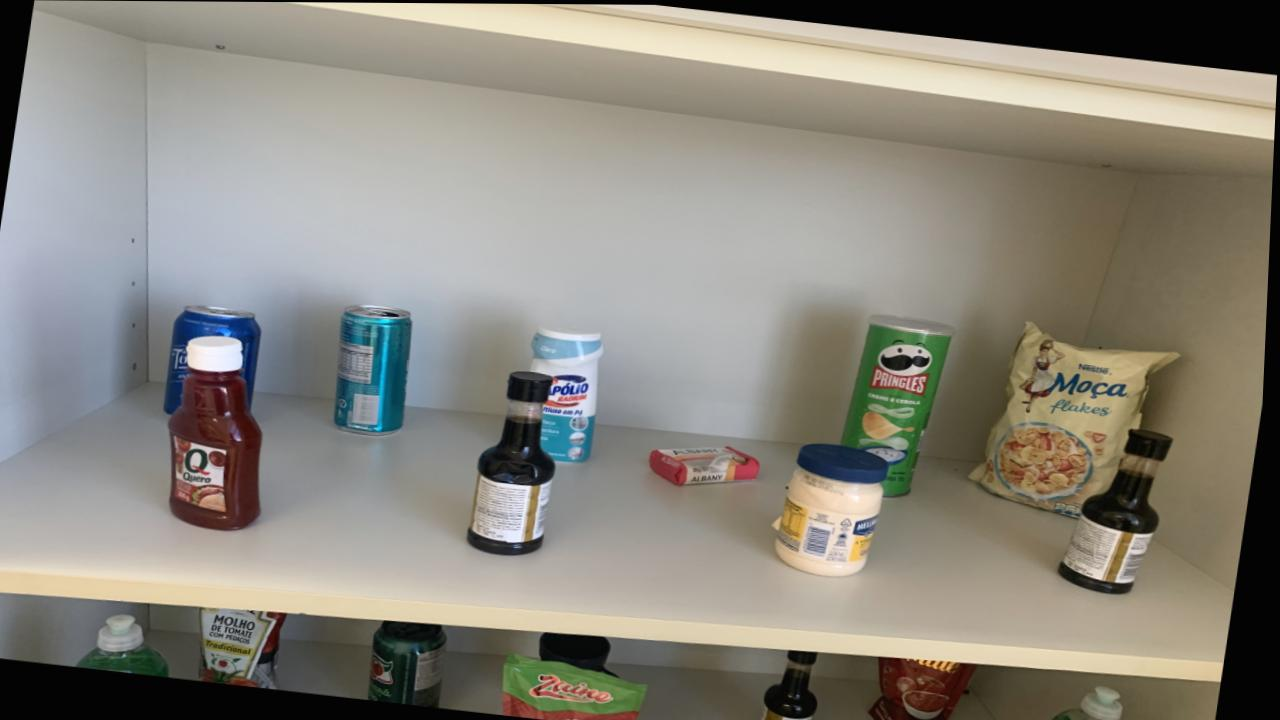Cleaner-Cleanup_Items: (534, 326, 607, 462)
Detergent-Cleanup_Items: (82, 614, 175, 676), (1057, 684, 1128, 720)
English_Sauce-Pantry_Items: (1064, 427, 1176, 592), (472, 370, 560, 554), (769, 649, 825, 720)
Flakes-Snacks: (974, 320, 1182, 514)
Guarana_Can-Drinks: (375, 619, 453, 706)
Ketchup-Pantry_Items: (171, 334, 266, 530)
Mayonnaise-Pantry_Items: (778, 441, 893, 575)
Pringles-Snacks: (846, 313, 957, 495)
Soap-Cleanup_Items: (654, 445, 764, 484)
Tea-Drinks: (338, 304, 415, 435)
Tomato_Sauce-Pantry_Items: (509, 652, 653, 720), (875, 655, 983, 720), (204, 607, 291, 687)
Tonic-Drinks: (168, 304, 265, 414)
